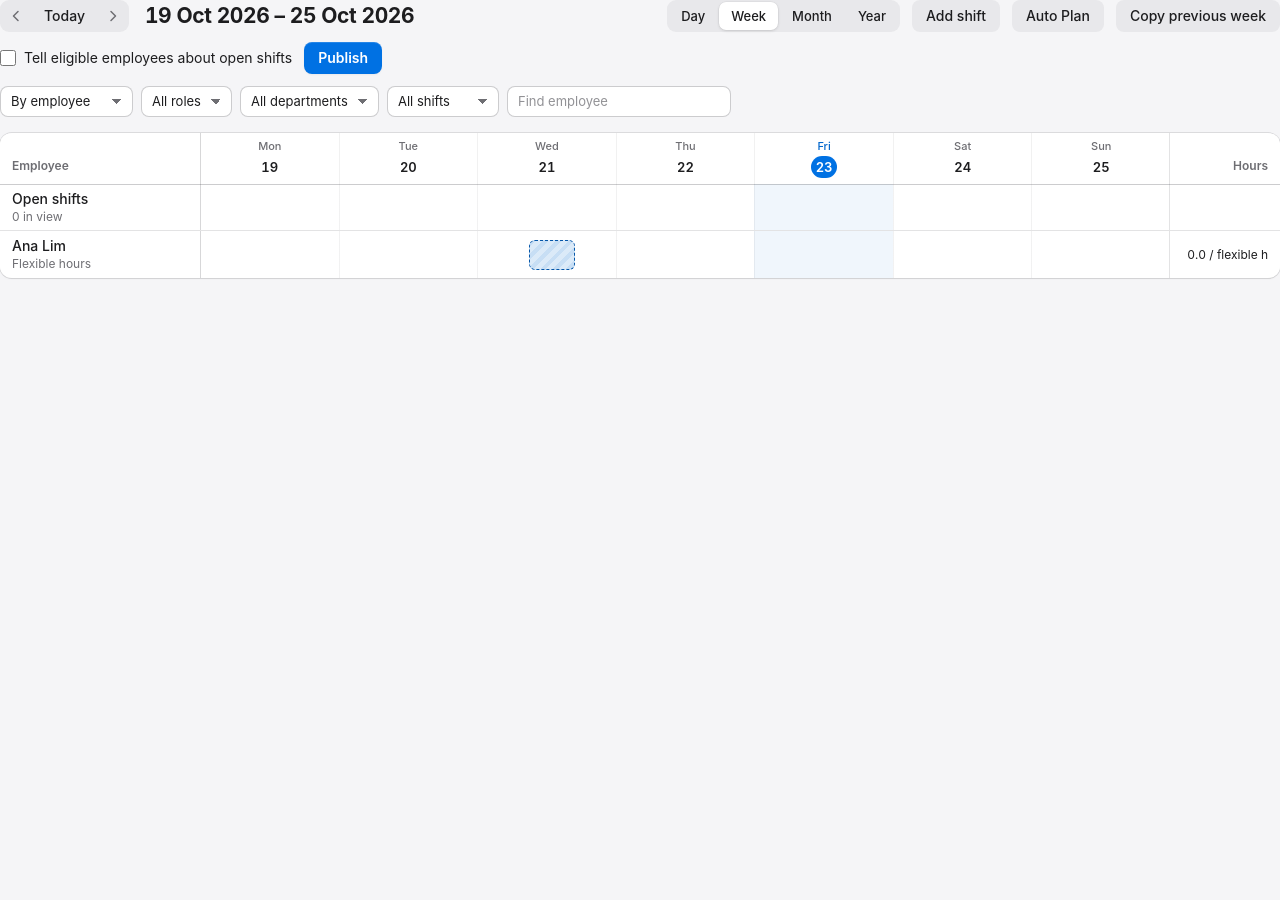
Scenario: SchedulePage publish with open-shift notices (FR-OPN-04) › offers an unticked, labelled checkbox and sends notify_open_shifts false by default
The image size is (1280, 900).
Expected: the element named "Schedule" is shown, x1=0 y1=133 x2=1279 y2=278
Click the button "Publish": click(343, 58) x1=304 y1=42 x2=382 y2=74
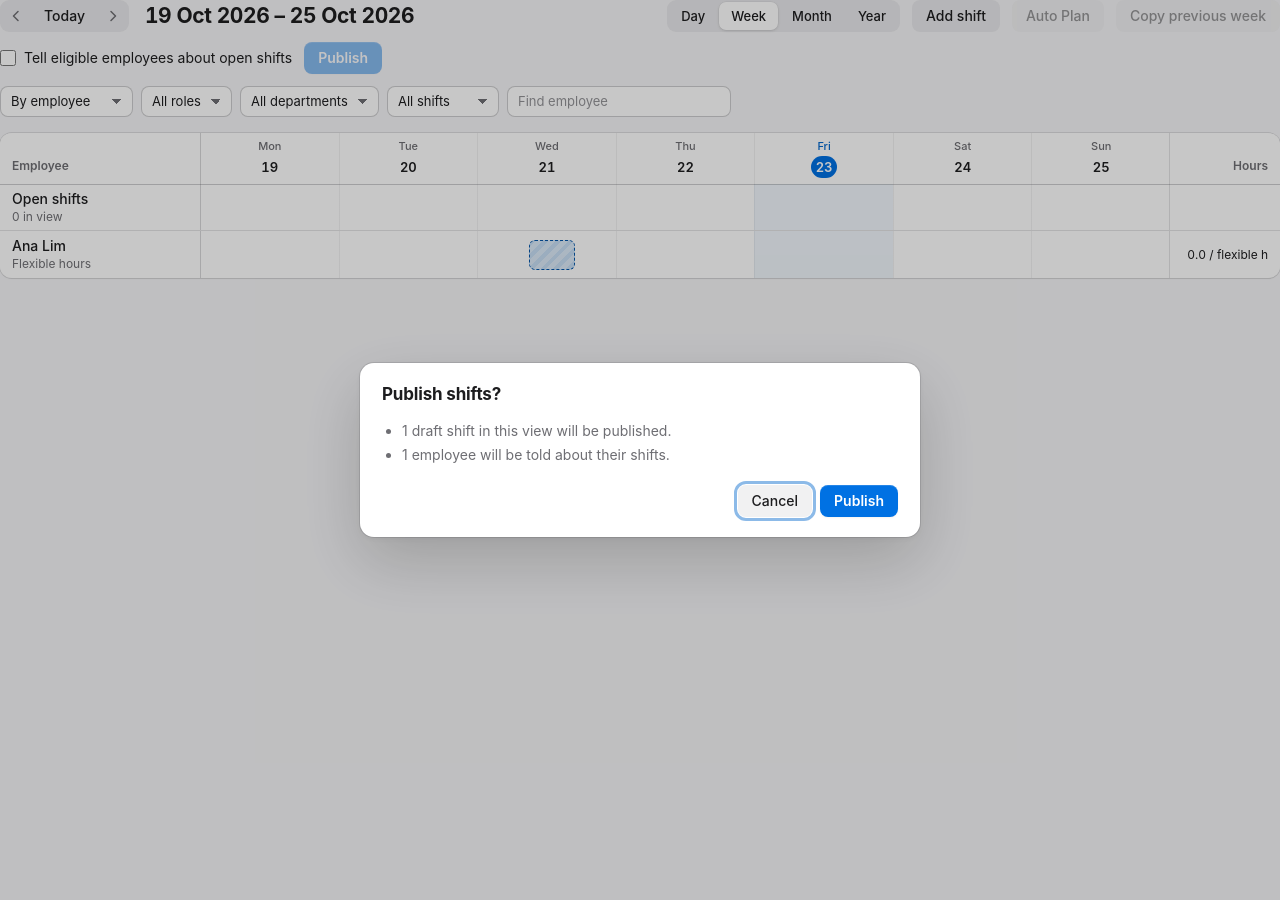
Click the button "Publish": click(859, 501) x1=820 y1=485 x2=898 y2=517
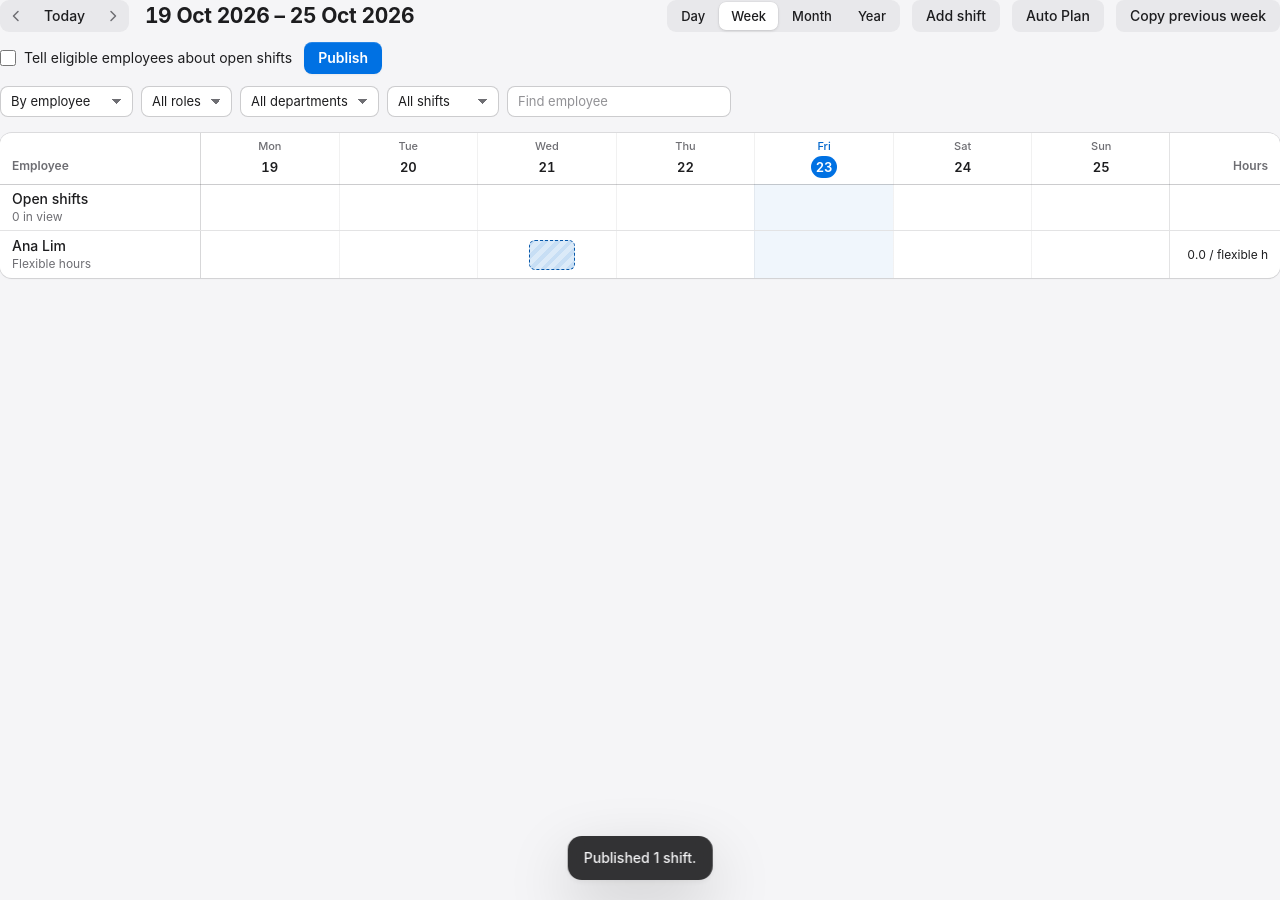
Result: the text "Published 1 shift." is shown at x1=584 y1=848 x2=696 y2=868
